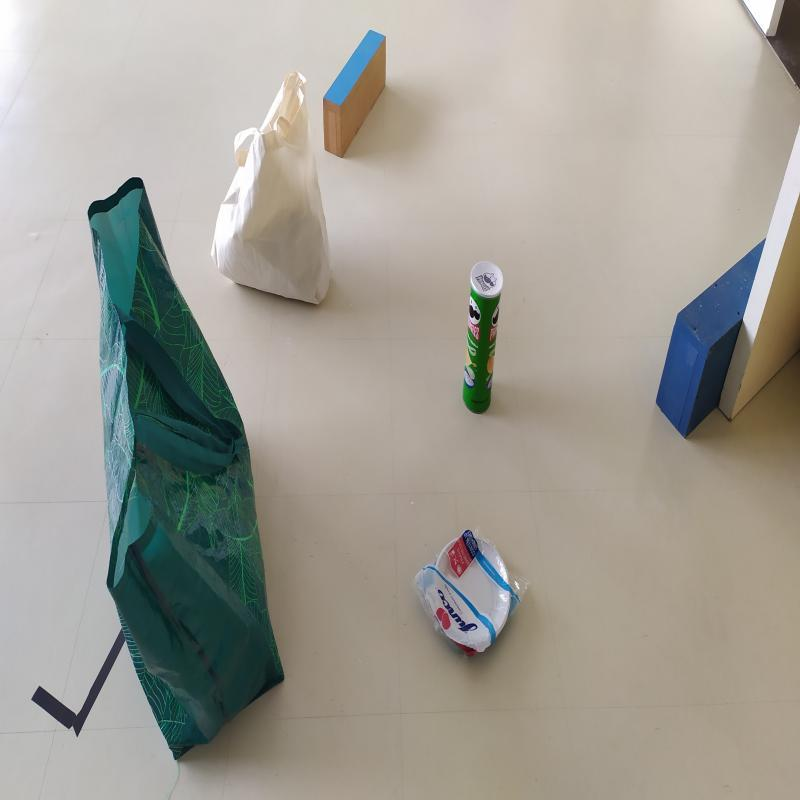Bag: (95, 172, 286, 765), (208, 68, 334, 304)
Plate: (430, 528, 516, 669)
Pringles: (461, 261, 502, 418)
